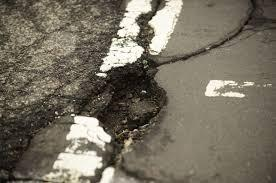crack: (171, 3, 270, 72), (131, 0, 178, 58)
pothole: (79, 60, 170, 138)
